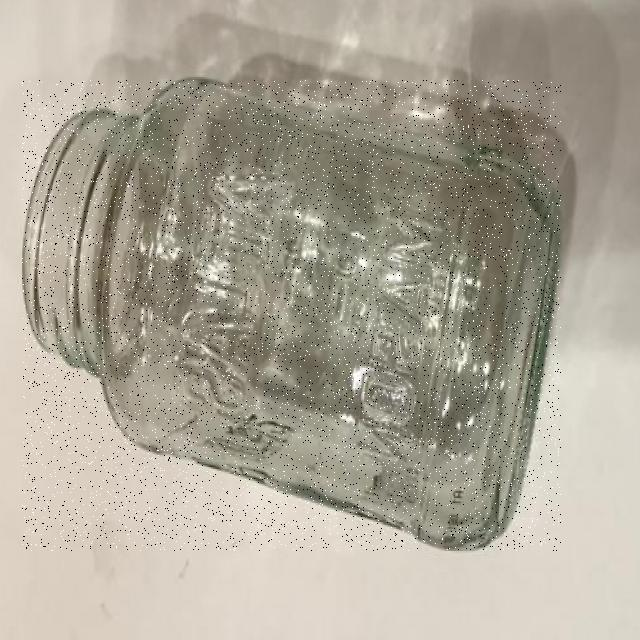glass: (23, 80, 561, 551)
